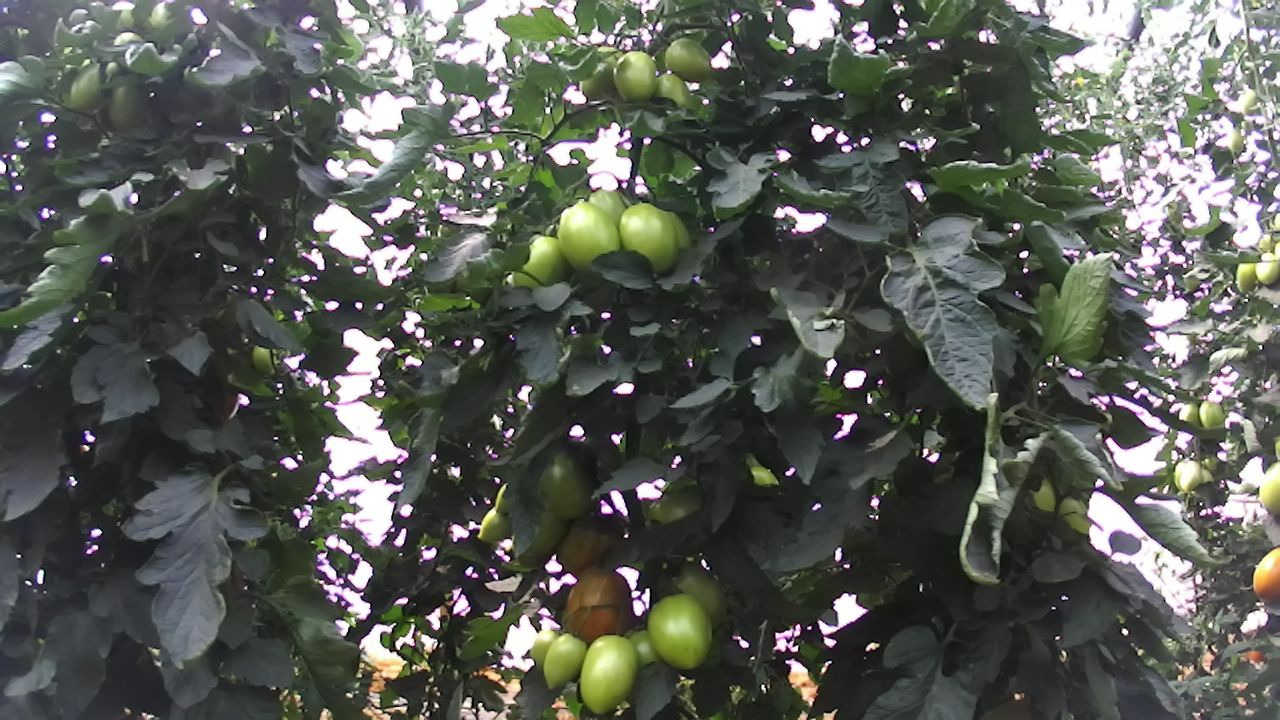tomato: (563, 558, 639, 654), (577, 629, 644, 719), (553, 197, 622, 284), (643, 590, 714, 672), (614, 199, 682, 282), (535, 443, 603, 525), (553, 507, 628, 580), (539, 629, 588, 694), (611, 46, 661, 106), (662, 35, 716, 85), (1246, 539, 1280, 603), (66, 63, 106, 117), (1256, 452, 1280, 520), (1249, 249, 1280, 288), (1176, 456, 1204, 495), (1196, 400, 1226, 430), (1234, 256, 1258, 293)
